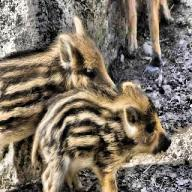boar: (30, 81, 171, 191)
